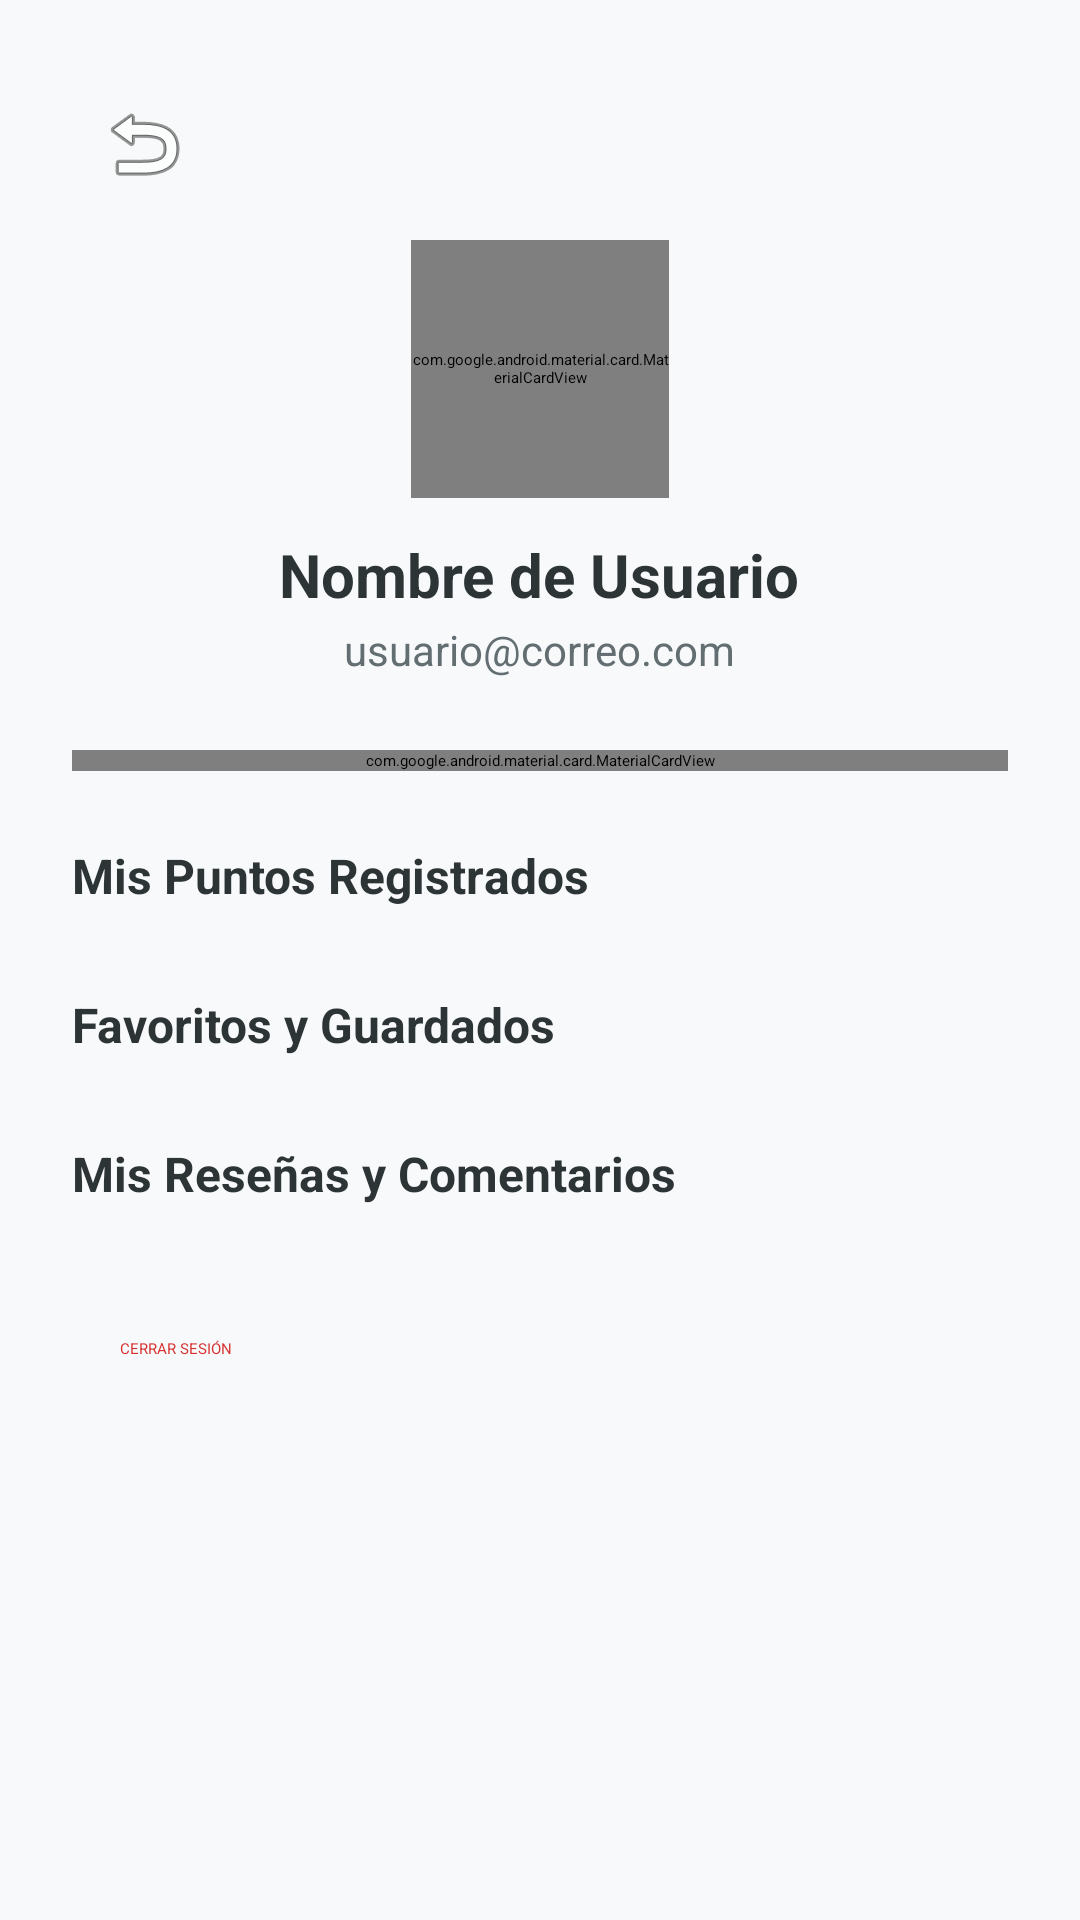

Icons on this 1080px x 1920px Android screen, each with its box as [left=x1, top=y1, right=x2, bottom=y2]:
Volver al mapa: [left=111, top=113, right=180, bottom=176]
